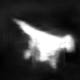plane: (12, 17, 77, 69)
